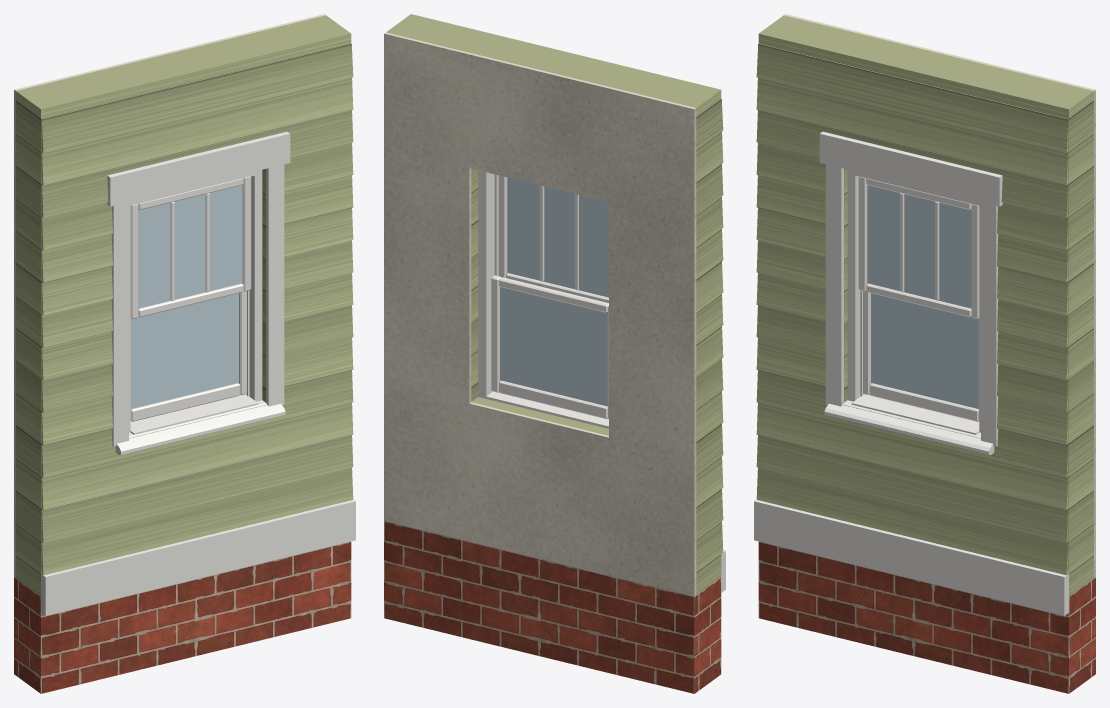
File: wall_siding_window.glb
3 views of the same model, side by side, from view 1: azimuth 30°, elevation 25°; view 2: azimuth 150°, elevation 25°; view 3: azimuth 330°, elevation 25° (orthographic).
Parts seen in each view (by area): view 1: wall_siding_window_siding, wall_siding_window_trim, wall_siding_window_brick, wall_siding_window_glass, wall_siding_window_sash, wall_siding_window_frame, wall_siding_window_plaster; view 2: wall_siding_window_plaster, wall_siding_window_brick, wall_siding_window_siding, wall_siding_window_glass, wall_siding_window_sash, wall_siding_window_frame, wall_siding_window_trim; view 3: wall_siding_window_siding, wall_siding_window_trim, wall_siding_window_brick, wall_siding_window_glass, wall_siding_window_sash, wall_siding_window_frame, wall_siding_window_plaster.
Part boxes in pixels (x1=…): wall_siding_window_siding: x1=16, y1=15, x2=353, y2=596; wall_siding_window_trim: x1=41, y1=131, x2=355, y2=615; wall_siding_window_brick: x1=14, y1=541, x2=351, y2=693; wall_siding_window_glass: x1=131, y1=185, x2=242, y2=408; wall_siding_window_sash: x1=130, y1=176, x2=251, y2=421; wall_siding_window_frame: x1=129, y1=170, x2=262, y2=432; wall_siding_window_plaster: x1=14, y1=14, x2=325, y2=577; wall_siding_window_plaster: x1=384, y1=32, x2=696, y2=596; wall_siding_window_brick: x1=384, y1=521, x2=721, y2=693; wall_siding_window_siding: x1=386, y1=14, x2=723, y2=594; wall_siding_window_glass: x1=500, y1=177, x2=608, y2=406; wall_siding_window_sash: x1=491, y1=175, x2=608, y2=419; wall_siding_window_frame: x1=478, y1=170, x2=498, y2=398; wall_siding_window_trim: x1=486, y1=391, x2=725, y2=592; wall_siding_window_siding: x1=756, y1=15, x2=1093, y2=596; wall_siding_window_trim: x1=754, y1=131, x2=1068, y2=615; wall_siding_window_brick: x1=758, y1=541, x2=1095, y2=693; wall_siding_window_glass: x1=867, y1=185, x2=978, y2=408; wall_siding_window_sash: x1=858, y1=176, x2=979, y2=421; wall_siding_window_frame: x1=847, y1=170, x2=980, y2=432; wall_siding_window_plaster: x1=784, y1=14, x2=1095, y2=577.
Size of the model in its own units: 2 by 3.6 by 0.38.
Materials: 7 (3 with a texture image).
